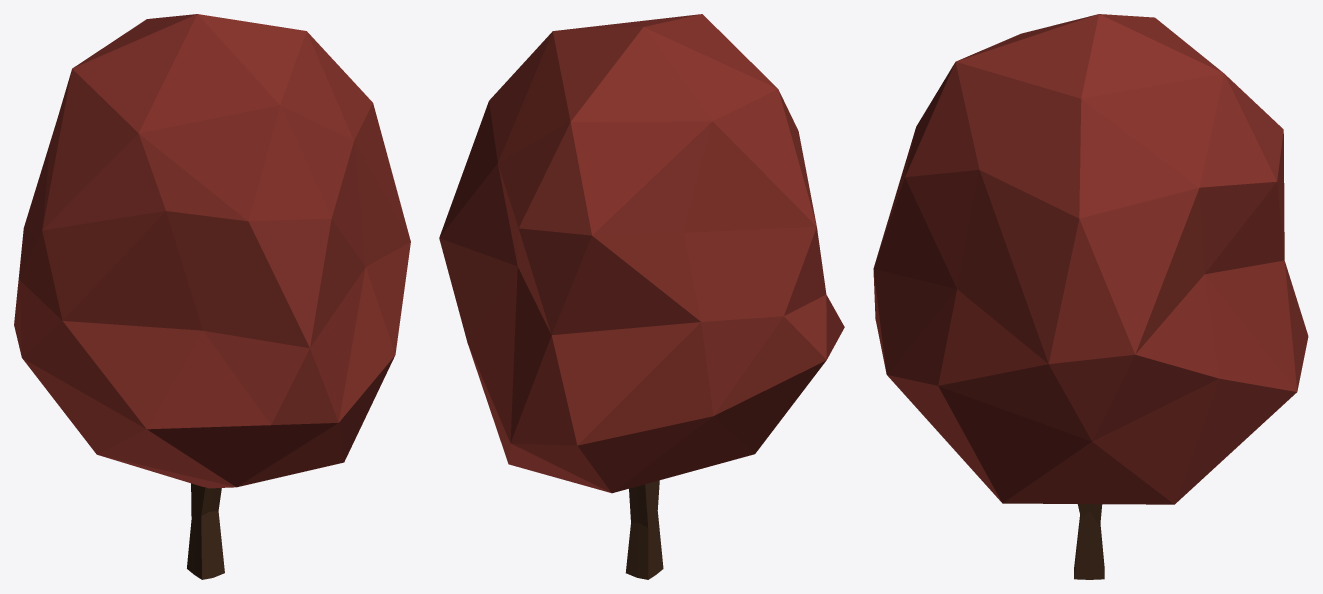
File: Tree_2_Red.fbx
The picture shows the model from 3 angles, left to right: view 1: azimuth 30°, elevation 25°; view 2: azimuth 150°, elevation 25°; view 3: azimuth 270°, elevation 25°; orthographic projection.
Parts seen in each view (by area): view 1: Tree_2_Red_Part_1, Tree_2_Red_Part_2; view 2: Tree_2_Red_Part_1, Tree_2_Red_Part_2; view 3: Tree_2_Red_Part_1, Tree_2_Red_Part_2.
Boxes of the visible parts, x1,y1,x2,y2 form: Tree_2_Red_Part_1: (14,14,410,488); Tree_2_Red_Part_2: (187,483,224,579); Tree_2_Red_Part_1: (439,14,844,493); Tree_2_Red_Part_2: (625,480,663,579); Tree_2_Red_Part_1: (873,14,1308,504); Tree_2_Red_Part_2: (1074,504,1104,579).
Size of the model in its own units: 550 by 792 by 557.
